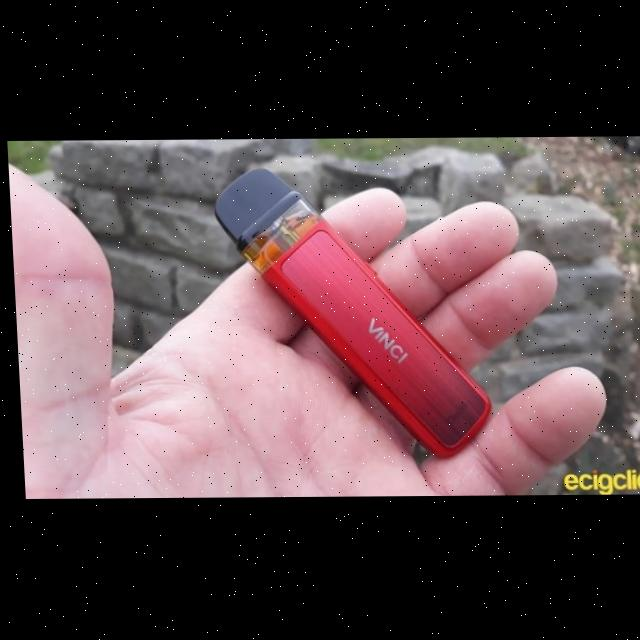vape: (210, 166, 490, 462)
